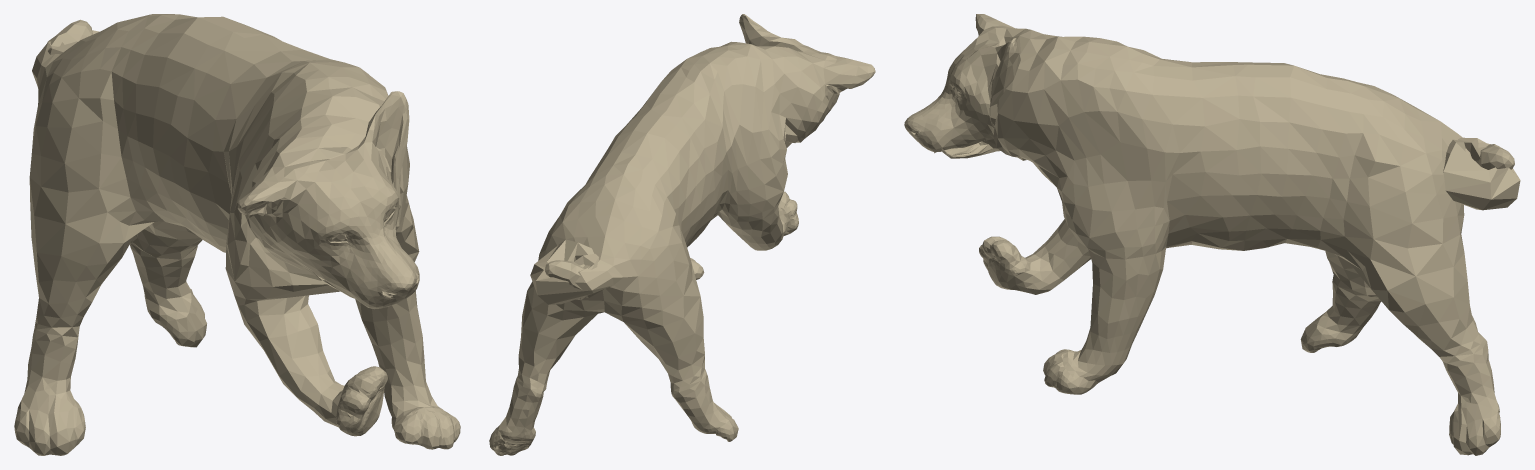
3 renders of one model, left to right at view 1: azimuth 30°, elevation 25°; view 2: azimuth 150°, elevation 25°; view 3: azimuth 270°, elevation 25°, orthographic. The views are drawn at different scales.
Visible parts, largest first — view 1: world; view 2: world; view 3: world.
Part boxes in pixels (x1,y1,x2,y2): world: [14, 14, 460, 455]; world: [489, 14, 875, 455]; world: [904, 14, 1520, 455].
Bounding box in the file's own units: 0.5081 × 0.8295 × 1.2.
